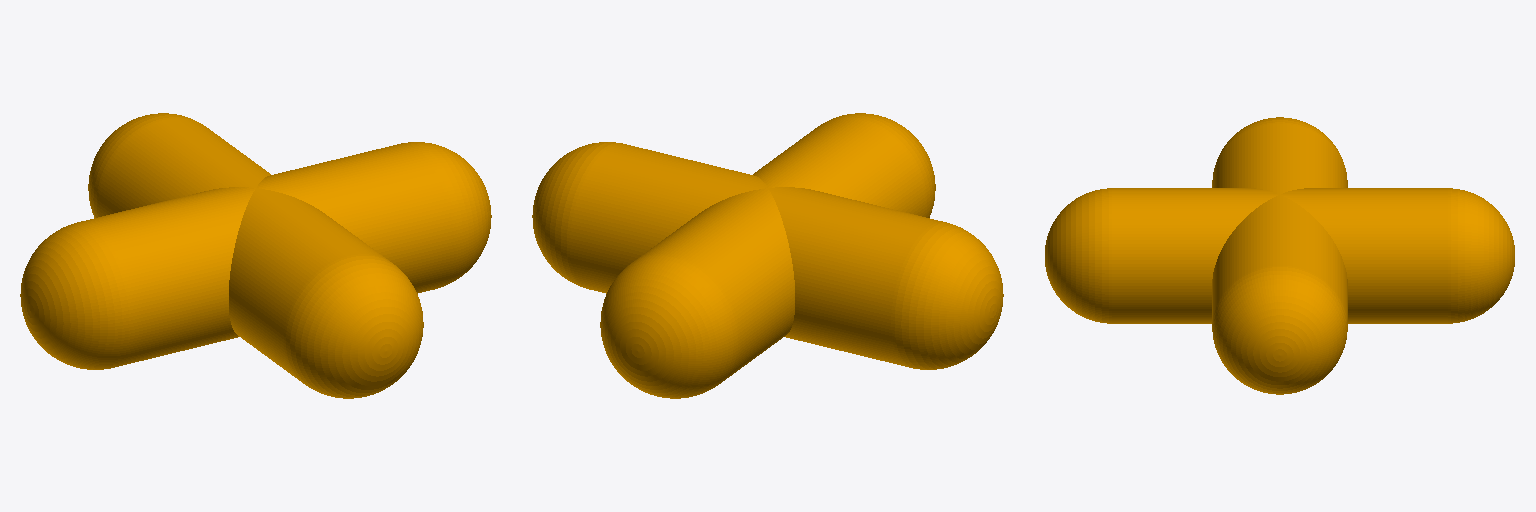
URDF robot description (object):
<?xml version="1.0"?>
<robot name="object">
  <link name="object">
    <visual>
      <origin xyz="0 0 0"/>
      <geometry>
        <mesh filename="meshes/non-convex-param/cross4_4.obj" scale=".08 .08 .08"/>
      </geometry>
    </visual>
    <collision>
  <origin xyz="0 0 0"/>
  <geometry>
    <mesh filename="meshes/non-convex-param/cross4_4_0decompose.obj" scale=".08 .08 .08"/>
<!--          <mesh filename="meshes/custom/obj0_ball.obj" scale=".05 .05 .05"/>-->
  </geometry>
</collision><collision>
  <origin xyz="0 0 0"/>
  <geometry>
    <mesh filename="meshes/non-convex-param/cross4_4_1decompose.obj" scale=".08 .08 .08"/>
<!--          <mesh filename="meshes/custom/obj0_ball.obj" scale=".05 .05 .05"/>-->
  </geometry>
</collision><collision>
  <origin xyz="0 0 0"/>
  <geometry>
    <mesh filename="meshes/non-convex-param/cross4_4_2decompose.obj" scale=".08 .08 .08"/>
<!--          <mesh filename="meshes/custom/obj0_ball.obj" scale=".05 .05 .05"/>-->
  </geometry>
</collision><collision>
  <origin xyz="0 0 0"/>
  <geometry>
    <mesh filename="meshes/non-convex-param/cross4_4_3decompose.obj" scale=".08 .08 .08"/>
<!--          <mesh filename="meshes/custom/obj0_ball.obj" scale=".05 .05 .05"/>-->
  </geometry>
</collision><collision>
  <origin xyz="0 0 0"/>
  <geometry>
    <mesh filename="meshes/non-convex-param/cross4_4_4decompose.obj" scale=".08 .08 .08"/>
<!--          <mesh filename="meshes/custom/obj0_ball.obj" scale=".05 .05 .05"/>-->
  </geometry>
</collision>

<!--    <collision>-->
<!--      <origin xyz="0 0 0"/>-->
<!--      <geometry>-->
<!--        <mesh filename="meshes/non-convex-param/cross4_4.obj" scale=".03 .03 .03"/>-->
<!--&lt;!&ndash;          <mesh filename="meshes/custom/obj0_ball.obj" scale=".05 .05 .05"/>&ndash;&gt;-->
<!--      </geometry>-->
<!--    </collision>-->
    <inertial>
      <density value="1000.0"/>
    </inertial>
  </link>
</robot>

--- Render facts (derived) ---
The picture shows the robot from 3 angles, left to right: view 1: azimuth 30°, elevation 25°; view 2: azimuth 150°, elevation 25°; view 3: azimuth 270°, elevation 25°; orthographic projection.
Robot: object — 1 links, 0 joints (none); root link object; default pose: every joint at zero.
Links seen in each view (by area): view 1: object; view 2: object; view 3: object.
Boxes of the visible links, left/top/right/bottom form: object: left=20, top=113, right=491, bottom=398; object: left=532, top=113, right=1003, bottom=398; object: left=1045, top=117, right=1514, bottom=394.
Bounding box of the posed robot: 0.1123 × 0.1123 × 0.0323 m (x, y, z).
1 mesh visuals loaded from 1 distinct referenced files (1 OBJ).